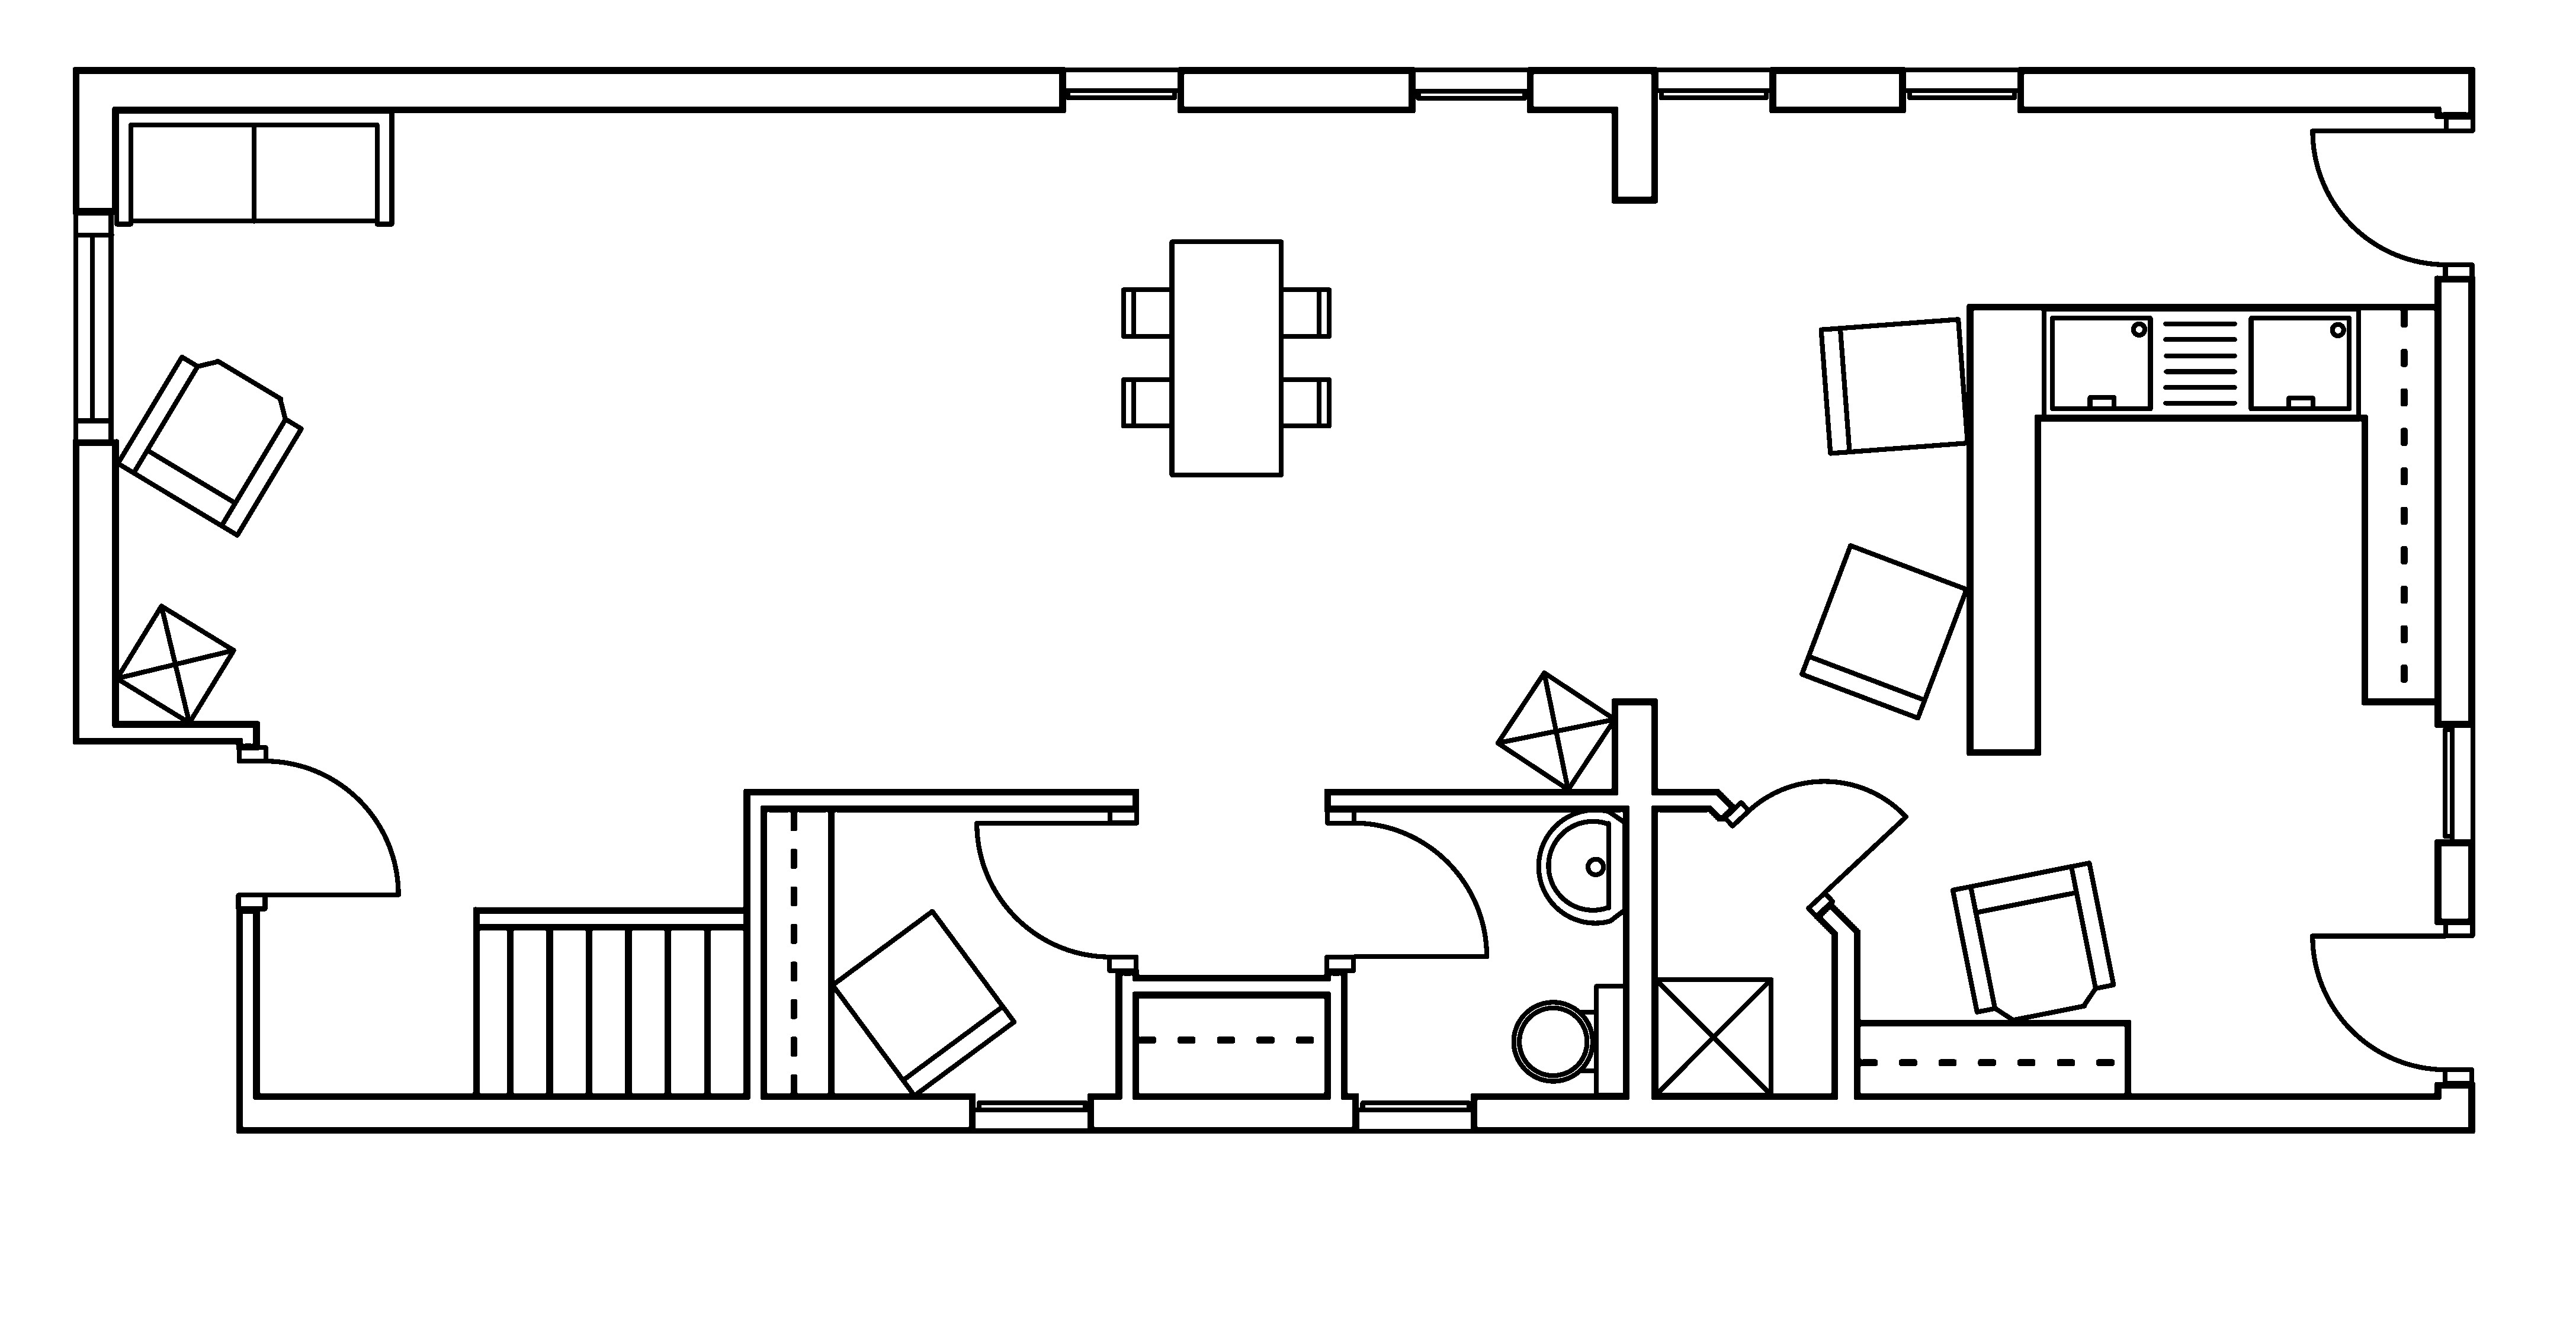armchair: (114, 353, 304, 538), (1949, 860, 2115, 1023)
coffee_table: (1493, 670, 1618, 792), (113, 602, 237, 725), (1651, 976, 1774, 1097)
dining_table: (1120, 239, 1332, 478)
large_sink: (1512, 983, 1628, 1097)
large_sofa: (113, 108, 395, 227)
small_sink: (1535, 808, 1628, 925)
small_sofa: (829, 907, 1016, 1099), (1797, 542, 1969, 720), (1818, 316, 1971, 456)
twin_sink: (2040, 305, 2361, 421)
